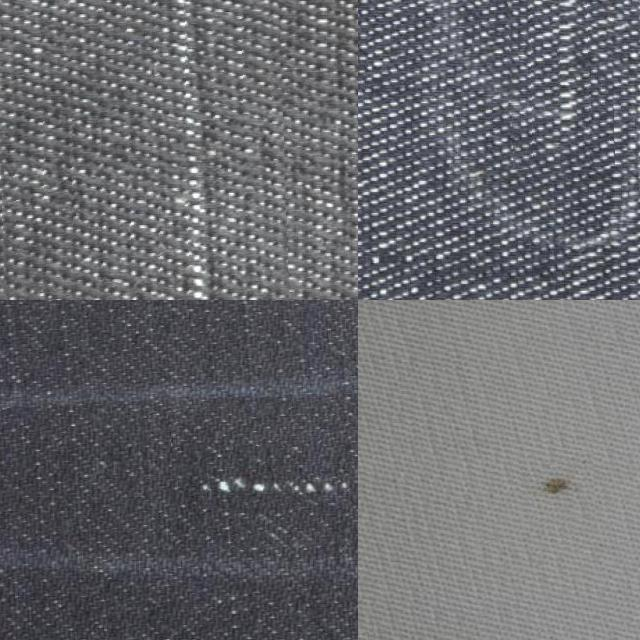Thread_other: (518, 450, 593, 520)
stains: (171, 398, 358, 548), (505, 0, 611, 168)
